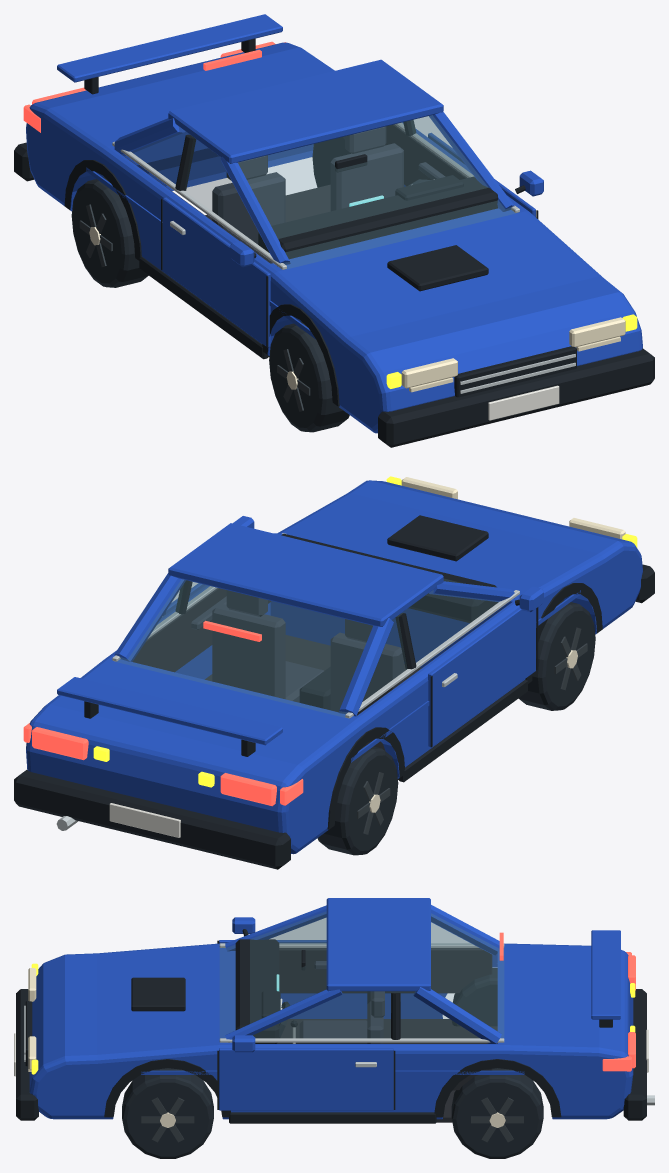
The model's file is Car_Coupe.fbx.
The picture shows the model from 3 angles, top to bottom: view 1: azimuth 30°, elevation 25°; view 2: azimuth 150°, elevation 25°; view 3: azimuth 270°, elevation 25°; orthographic projection. The views are drawn at different scales.
Parts seen in each view (by area): view 1: Body.005, WindowCabin.005, Roof.005, FrontBumper.005, DoorPanel_FR.005, Dashboard.005, Tire_FR.005, Spoiler, Tire_RR.005, SeatBack.010, SeatBack.011, HoodScoop (+18 smaller); view 2: Body.005, WindowCabin.005, Roof.005, RearBumper.005, DoorPanel_FR.005, SeatBack.010, Tire_RR.005, Spoiler, Tire_FR.005, DoorTrim.010, SeatBack.011, HoodScoop (+19 smaller); view 3: Body.005, WindowCabin.005, DoorPanel_FL.005, Roof.005, Tire_FL.005, Tire_RL.005, DoorTrim.011, Dashboard.005, Spoiler, SideSkirt_L.005, CabinFloor.005, RearBumper.005 (+19 smaller).
Boxes of the visible parts, x1,y1,x2,y2 form: Body.005: [26, 42, 642, 433]; WindowCabin.005: [131, 115, 515, 268]; Roof.005: [168, 59, 443, 163]; FrontBumper.005: [378, 348, 654, 447]; DoorPanel_FR.005: [163, 197, 270, 347]; Dashboard.005: [258, 176, 497, 259]; Tire_FR.005: [269, 321, 349, 432]; Spoiler: [57, 14, 282, 82]; Tire_RR.005: [71, 177, 148, 287]; SeatBack.010: [330, 143, 403, 211]; SeatBack.011: [212, 172, 285, 262]; HoodScoop: [387, 245, 488, 291]; Body.005: [26, 480, 642, 854]; WindowCabin.005: [117, 579, 498, 717]; Roof.005: [168, 523, 443, 626]; RearBumper.005: [14, 769, 290, 869]; DoorPanel_FR.005: [428, 607, 535, 747]; SeatBack.010: [212, 603, 285, 699]; Tire_RR.005: [317, 746, 398, 855]; Spoiler: [57, 677, 282, 745]; Tire_FR.005: [518, 600, 595, 710]; DoorTrim.010: [132, 588, 271, 672]; SeatBack.011: [330, 632, 403, 714]; HoodScoop: [387, 515, 488, 561]; Body.005: [29, 943, 633, 1119]; WindowCabin.005: [220, 912, 503, 1037]; DoorPanel_FL.005: [219, 1048, 393, 1110]; Roof.005: [326, 898, 430, 991]; Tire_FL.005: [122, 1068, 213, 1158]; Tire_RL.005: [451, 1068, 543, 1158]; DoorTrim.011: [279, 948, 492, 993]; Dashboard.005: [235, 939, 279, 1043]; Spoiler: [591, 930, 620, 1019]; SideSkirt_L.005: [229, 1112, 436, 1123]; CabinFloor.005: [279, 1019, 497, 1122]; RearBumper.005: [623, 989, 646, 1120].
Bounding box in the file's own units: 2.16 × 1.33 × 4.73.
